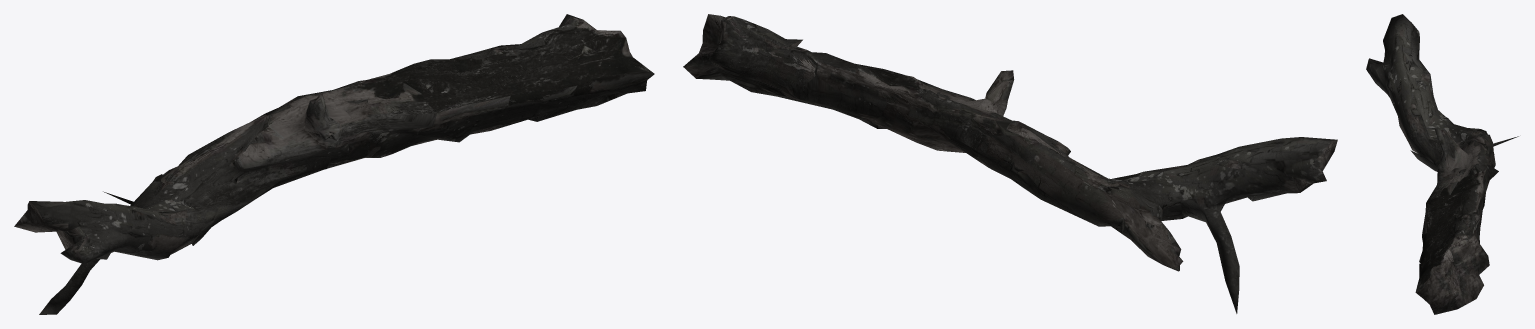
File: burnt_snag.glb
3 renders of one model, left to right at view 1: azimuth 30°, elevation 25°; view 2: azimuth 150°, elevation 25°; view 3: azimuth 270°, elevation 25°, orthographic. The views are drawn at different scales.
Parts seen in each view (by area): view 1: burnt_snag; view 2: burnt_snag; view 3: burnt_snag.
Part boxes in pixels (bbox=[...]): burnt_snag: bbox=[14, 14, 654, 314]; burnt_snag: bbox=[683, 14, 1337, 313]; burnt_snag: bbox=[1366, 14, 1518, 314].
Size of the model in its own units: 4.84 by 1.25 by 1.25.
1 material, 1 textured.
